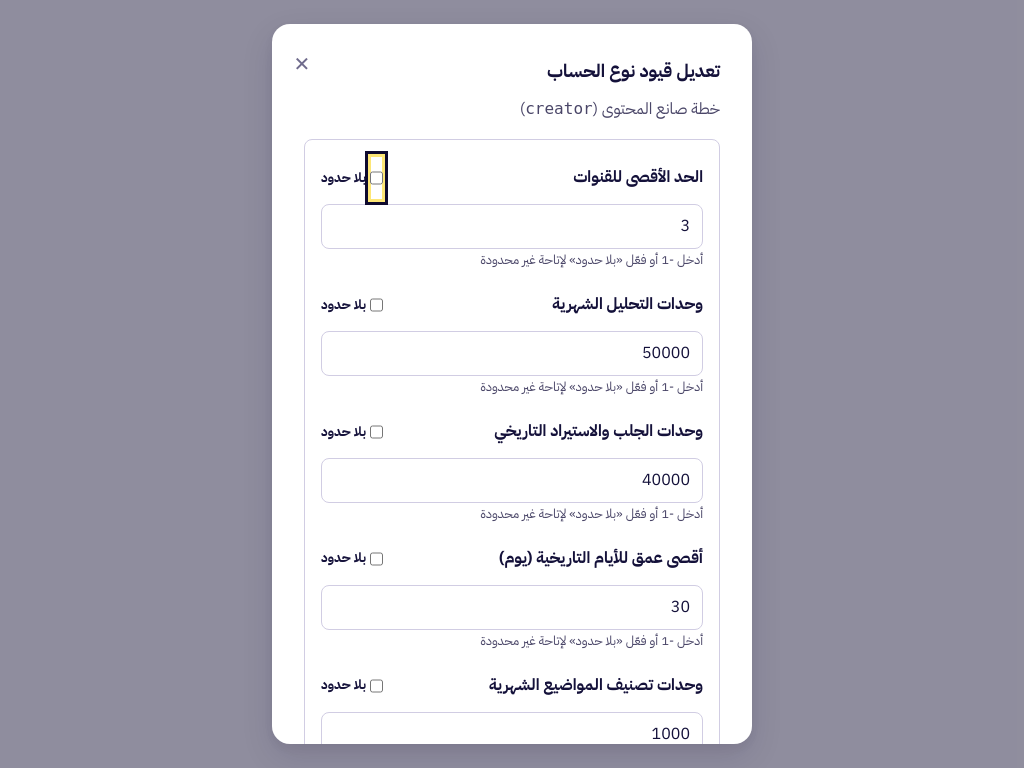
Test: EditPlanLimitsDialog › refuses a fractional or below -1 value with a message and no save
Replace the text in the number field with test id "input-plan-channels" with "-2" at (512, 226), box [321,204,703,249]
(page scrolled)
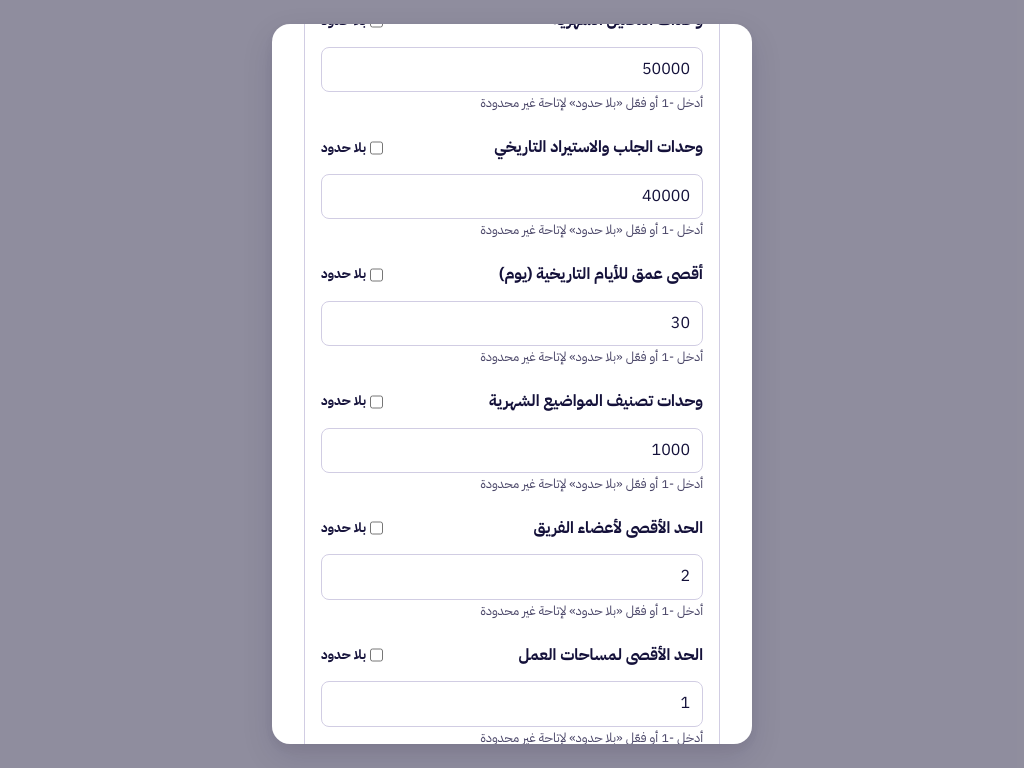
Submit the form with test id "input-plan-channels"
(page scrolled)
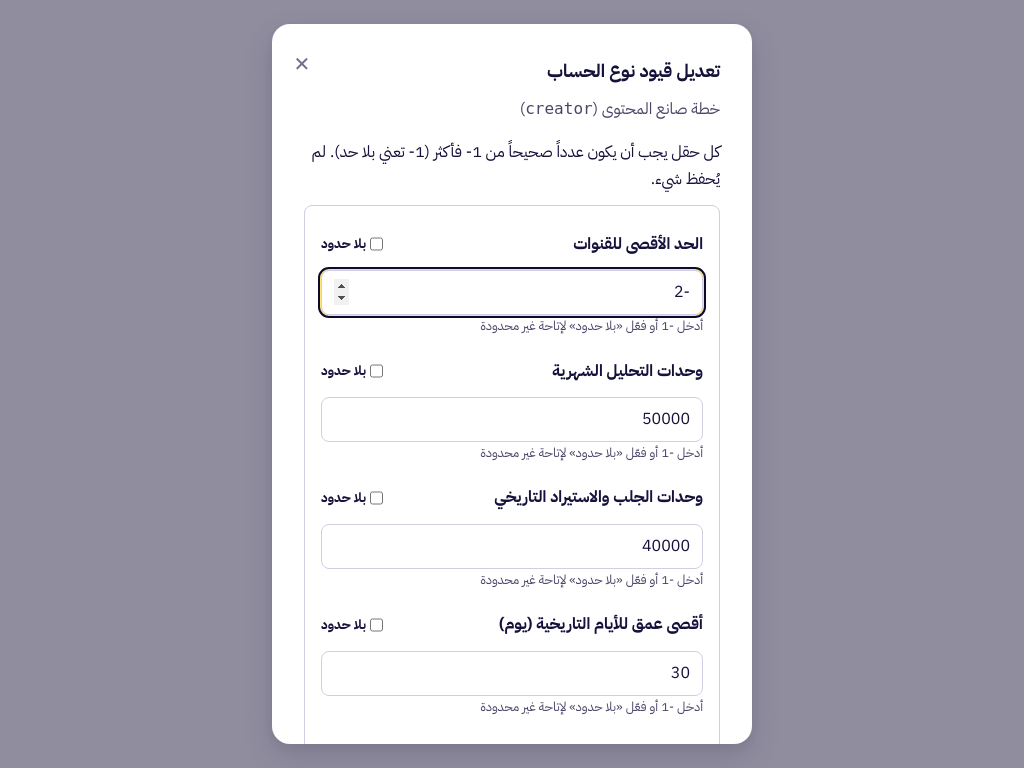
expect the message "كل حقل يجب أن يكون عدداً صحيحاً من  -1 فأكثر ( -1 تعني بلا حد). لم يُحفظ شيء." is shown: met, box [304,139,720,193]
